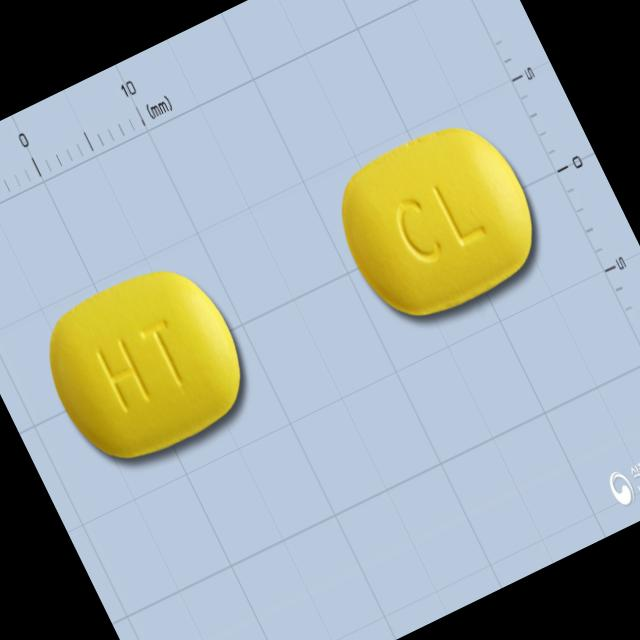Clathrocin: (314, 100, 558, 338), (25, 248, 266, 482)
